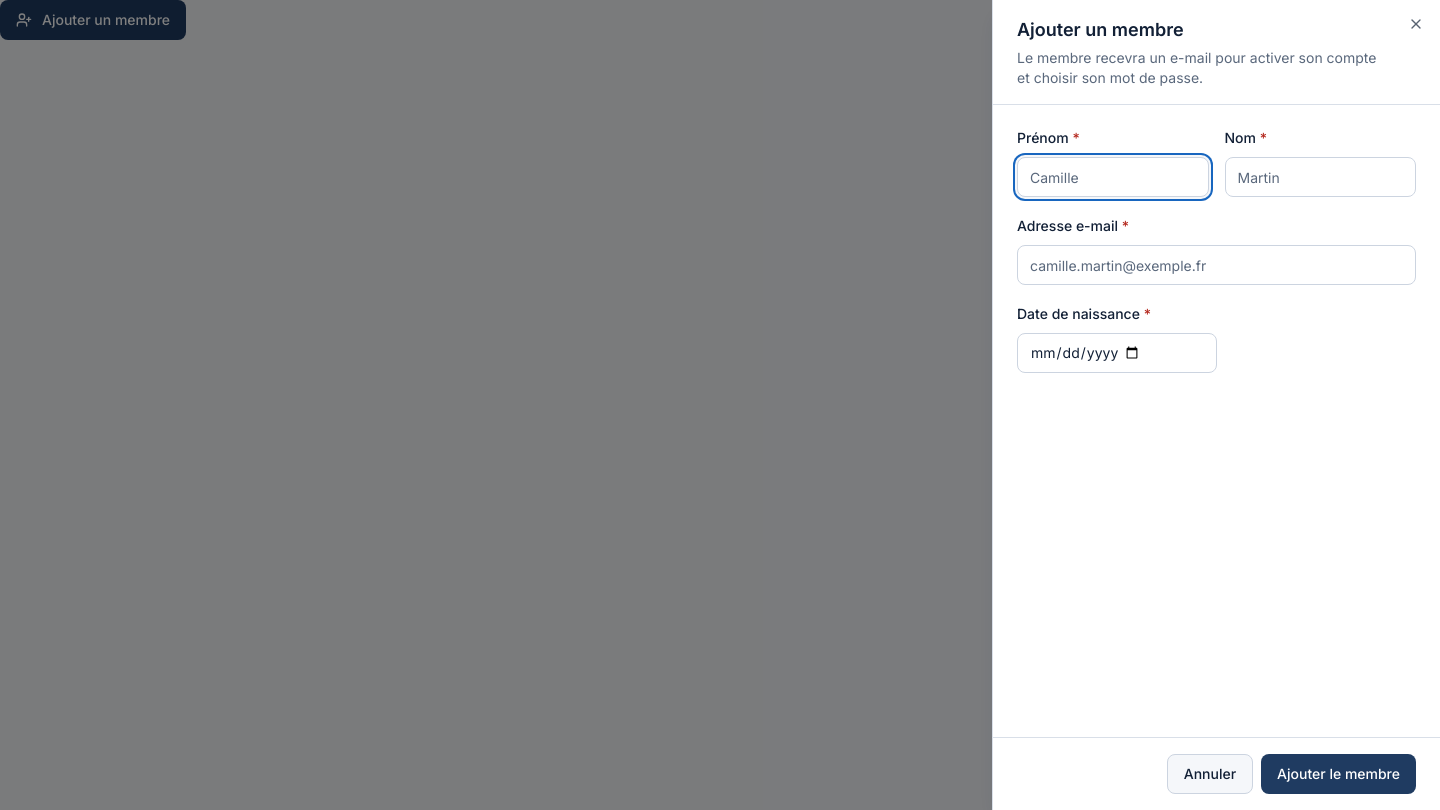
Test: CreateUserForm › shows what is missing under the fields instead of submitting
This screenshot has width=1440, height=810.
Click the button "Ajouter le membre".
click(1339, 774)  # box [1261,754,1416,794]
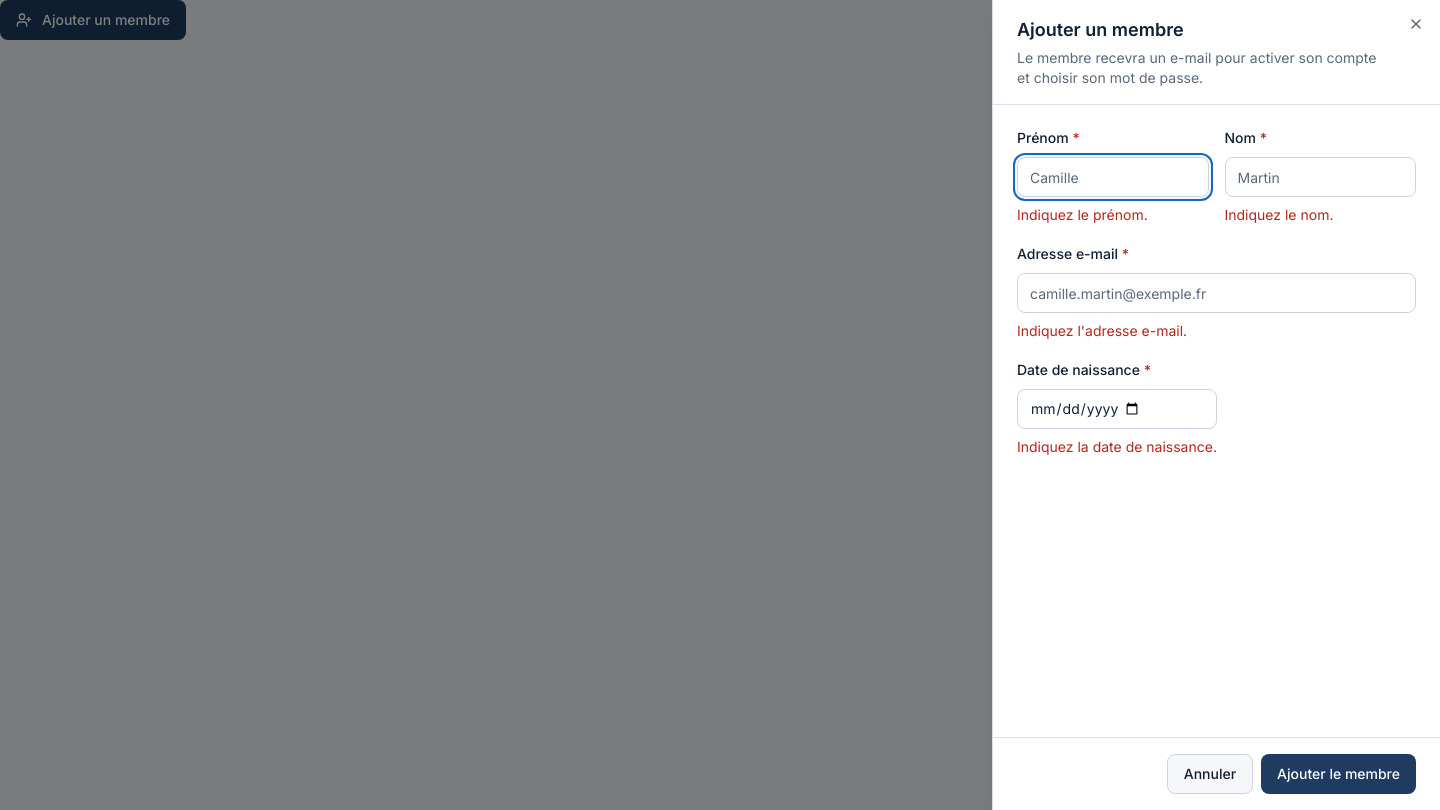
Expected: the text "Indiquez le prénom." is shown, [1017,206,1148,223]
Expected: the text "Indiquez le nom." is shown, [1224,206,1333,223]
Expected: the text "Indiquez l'adresse e-mail." is shown, [1017,322,1187,339]
